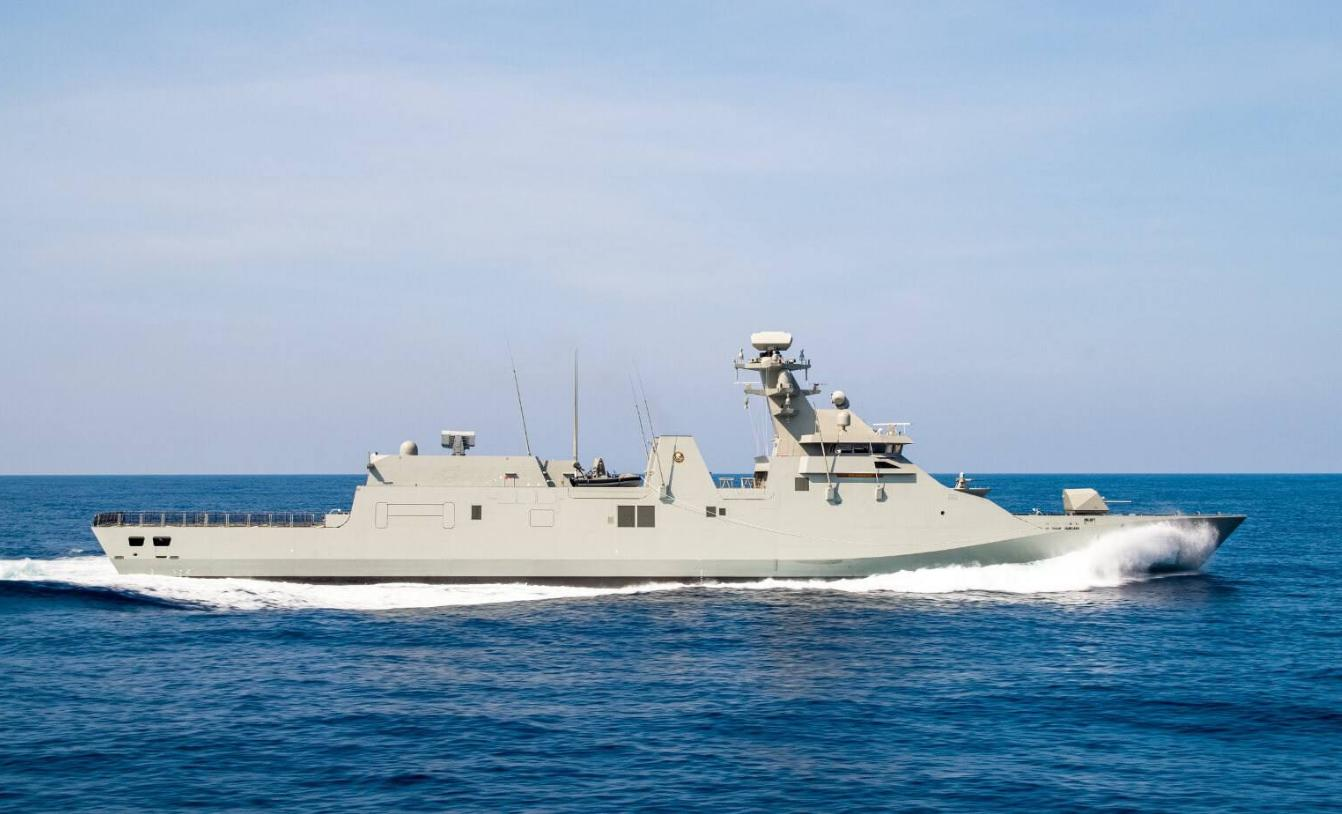warship: (86, 325, 1247, 597)
